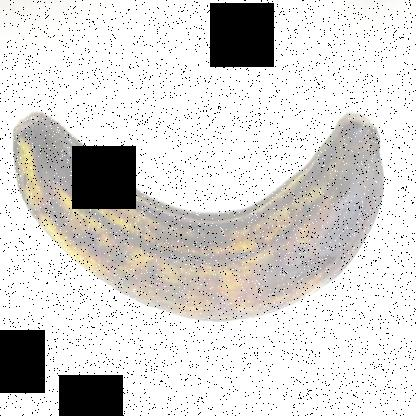overripe: (7, 98, 384, 340)
